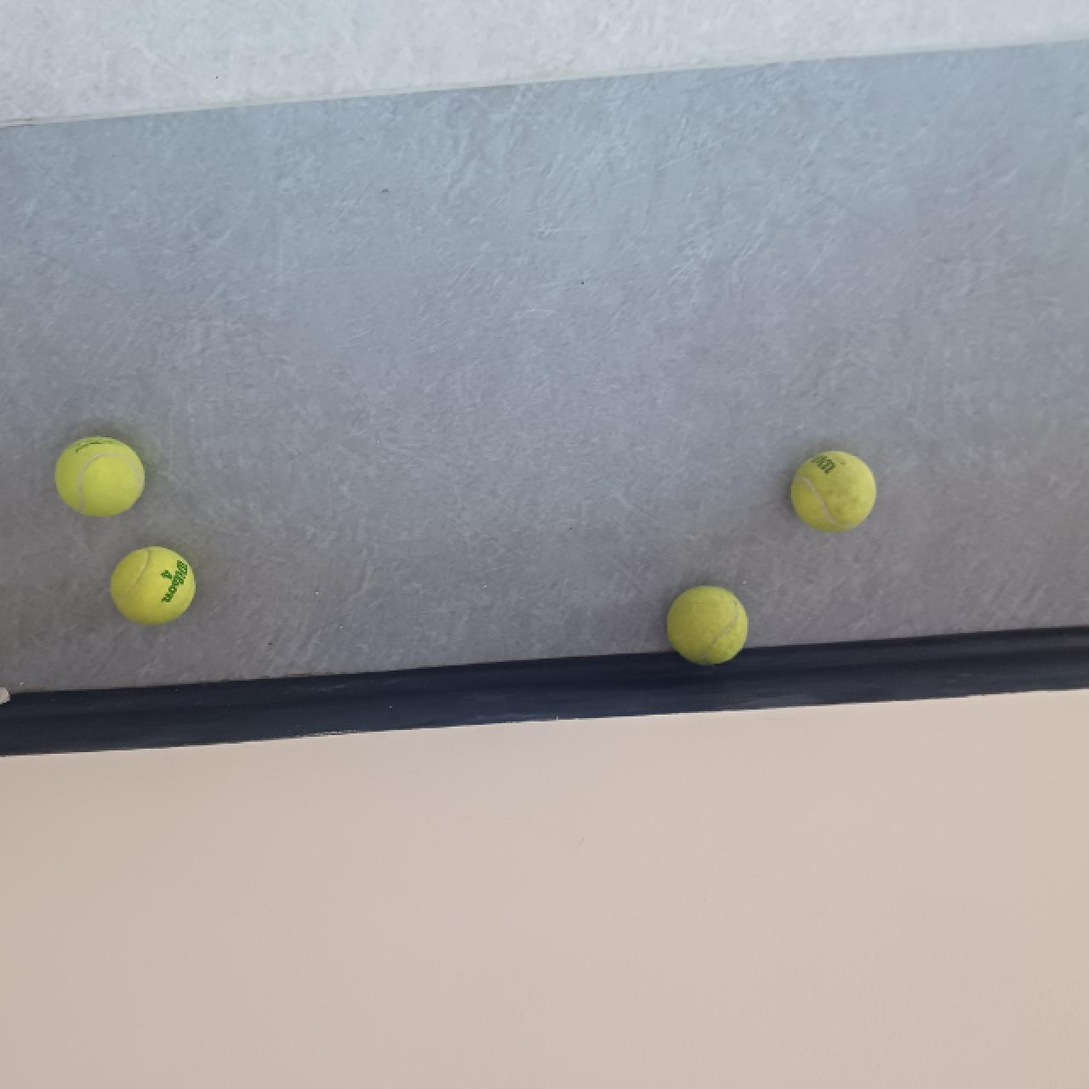tennis-ball: (51, 428, 151, 521), (784, 444, 880, 535), (659, 580, 752, 668), (110, 540, 198, 628)
